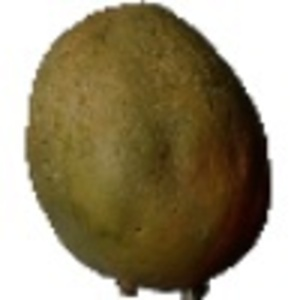mamão: (14, 3, 287, 287)
